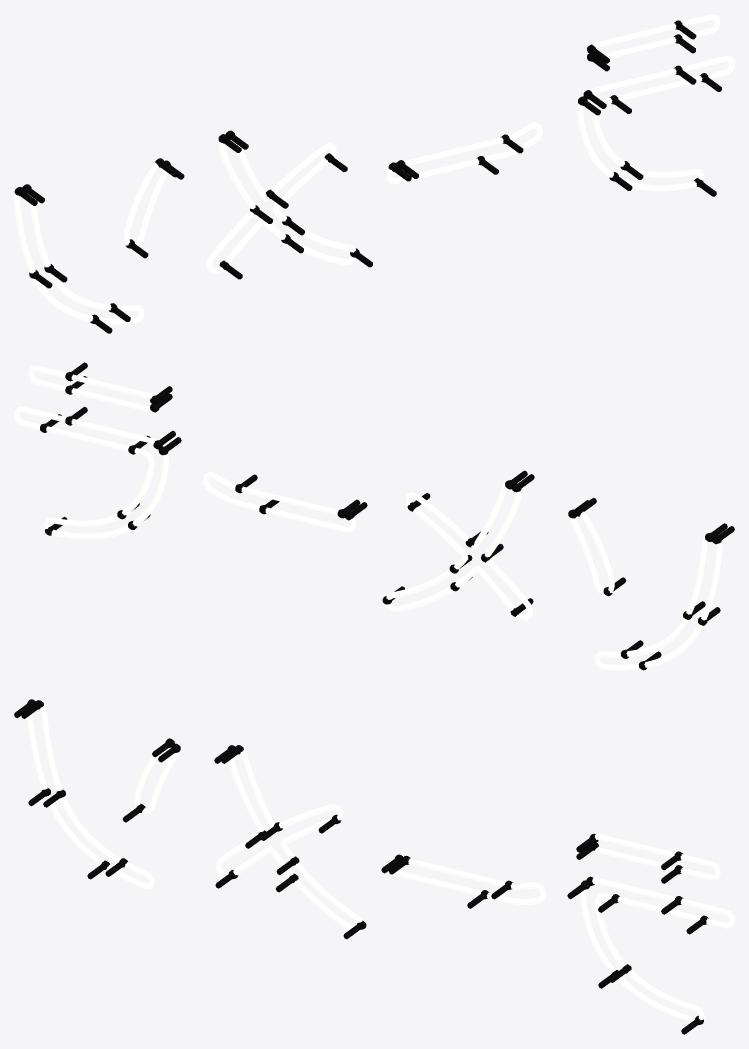
The model's file is neon_ra-meso.fbx.
3 views of the same model, one above another, from view 1: azimuth 30°, elevation 25°; view 2: azimuth 150°, elevation 25°; view 3: azimuth 330°, elevation 25° (orthographic).
Visible parts, largest first — view 1: NeonEnglish; view 2: NeonEnglish; view 3: NeonEnglish.
Part boxes in pixels (x1=…): NeonEnglish: x1=14, y1=14, x2=734, y2=333; NeonEnglish: x1=14, y1=362, x2=734, y2=670; NeonEnglish: x1=14, y1=699, x2=734, y2=1034.
Size of the model in its own units: 498 by 113 by 21.29.
